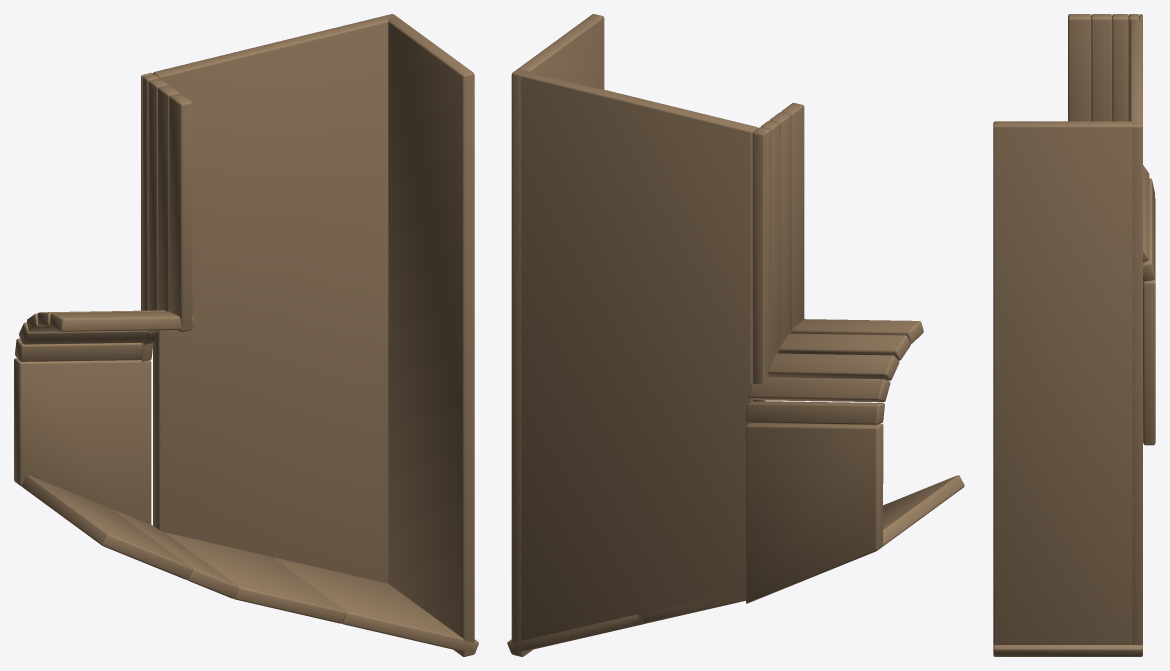
The model's file is first-courtyard-passage.glb.
3 renders of one model, left to right at view 1: azimuth 30°, elevation 25°; view 2: azimuth 150°, elevation 25°; view 3: azimuth 270°, elevation 25°, orthographic. The views are drawn at different scales.
Parts seen in each view (by area): view 1: 第一天井_第一过洞_连续内表面; view 2: 第一天井_第一过洞_连续内表面; view 3: 第一天井_第一过洞_连续内表面.
Boxes of the visible parts, left/top/right/bottom form: 第一天井_第一过洞_连续内表面: left=14, top=14, right=478, bottom=656; 第一天井_第一过洞_连续内表面: left=507, top=14, right=964, bottom=656; 第一天井_第一过洞_连续内表面: left=993, top=14, right=1155, bottom=656.
Size of the model in its own units: 3.13 by 4.62 by 1.28.
